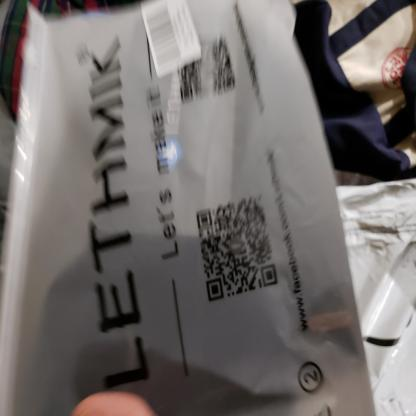barcode: (143, 2, 181, 68)
qr: (192, 193, 285, 309), (174, 33, 241, 107)
